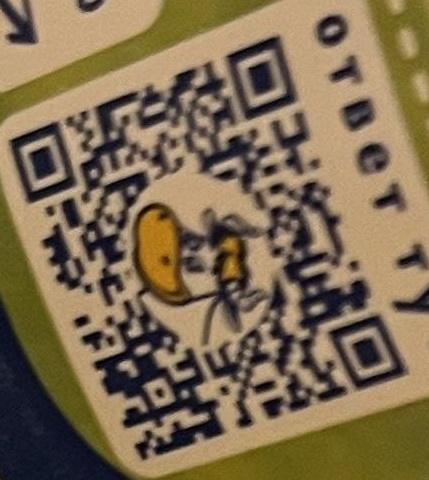qrcode: (9, 35, 409, 462)
